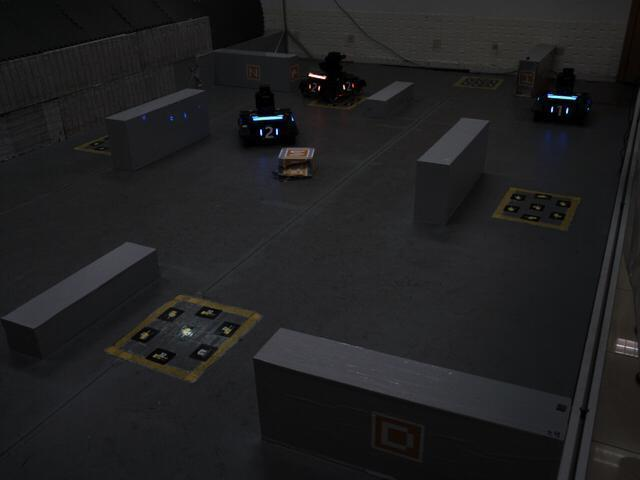armor: (255, 124, 281, 140), (547, 103, 572, 119), (305, 79, 325, 95), (340, 76, 356, 95)
